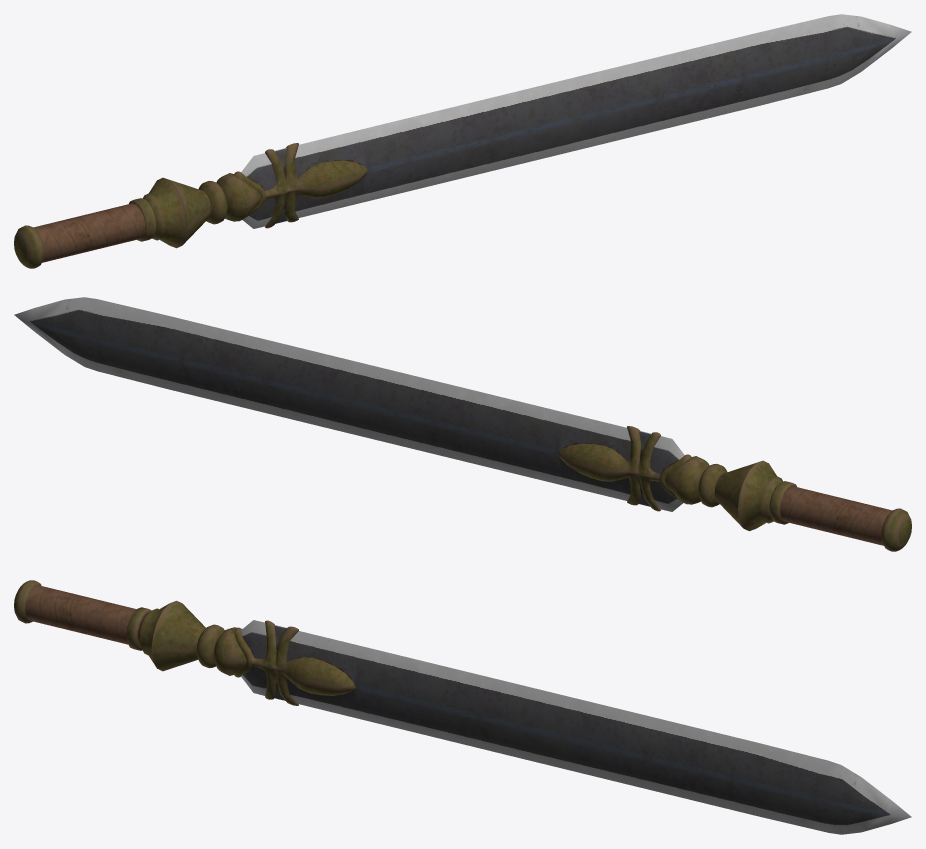
File: Mesh_Weapon_3_1_R.FBX
3 views of the same model, one above another, from view 1: azimuth 30°, elevation 25°; view 2: azimuth 150°, elevation 25°; view 3: azimuth 330°, elevation 25° (orthographic).
Visible parts, largest first — view 1: Mesh_Wepaon_3_1_R; view 2: Mesh_Wepaon_3_1_R; view 3: Mesh_Wepaon_3_1_R.
Boxes of the visible parts, x1=… form: Mesh_Wepaon_3_1_R: x1=14, y1=14, x2=911, y2=268; Mesh_Wepaon_3_1_R: x1=14, y1=297, x2=911, y2=551; Mesh_Wepaon_3_1_R: x1=14, y1=580, x2=911, y2=834.
Bounding box in the file's own units: 121 × 10.26 × 8.62.
Materials: 1 (1 with a texture image).
